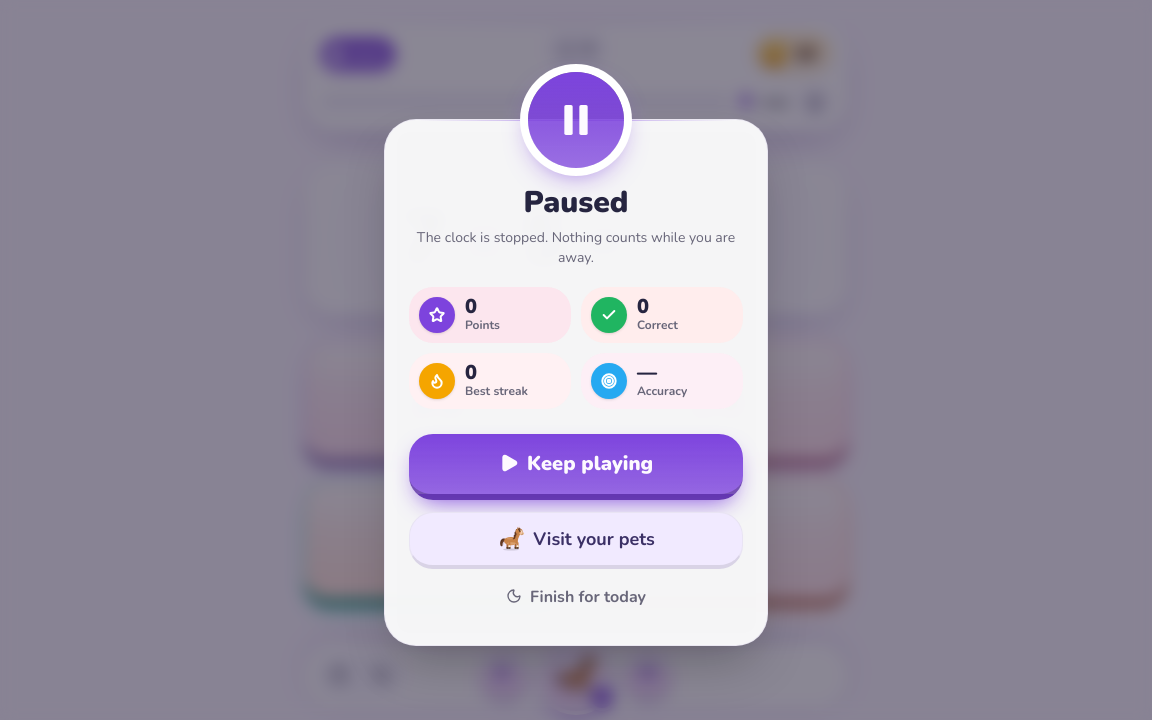
Scenario: GameScreen › does not move a child up for stopping early
Click the button "Finish for today" at [576, 596], box [409,572,743,620]
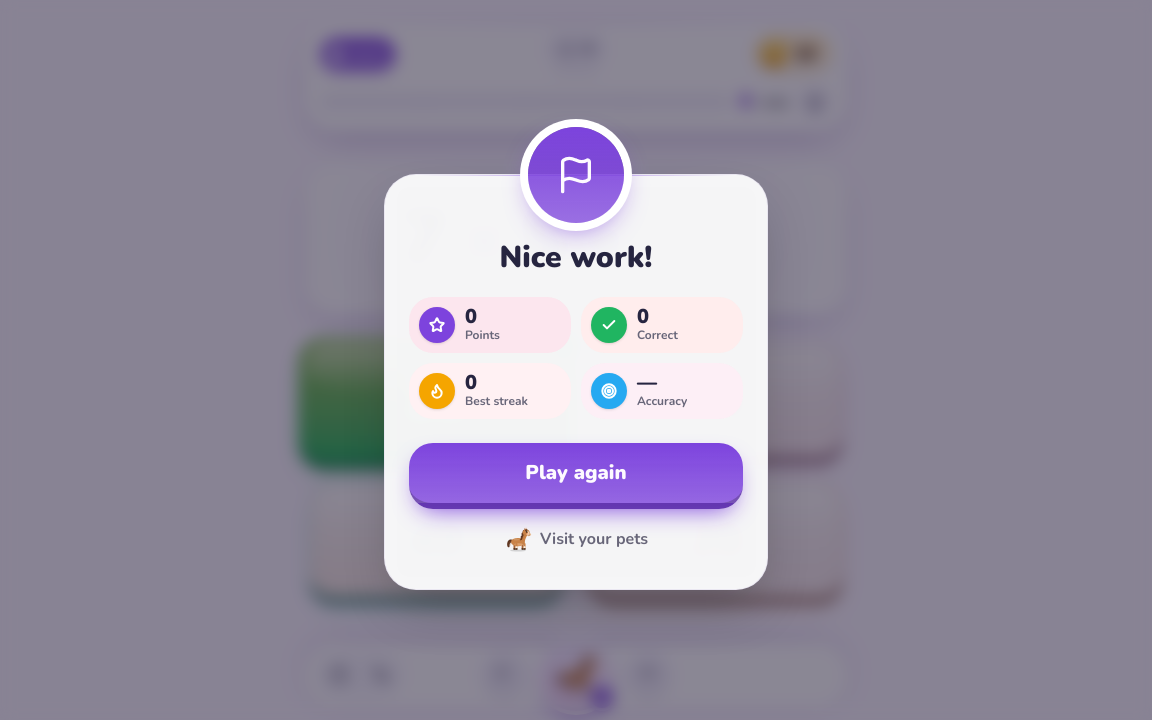
Expected: the button "Play again" is shown, [409,443,743,509]
